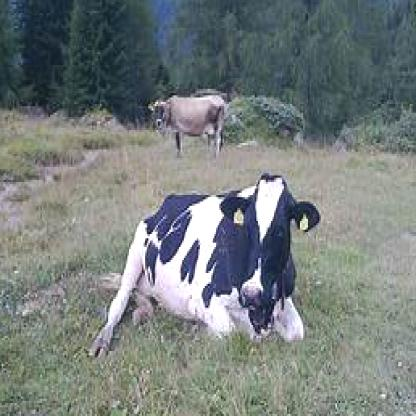cow: (89, 174, 321, 358)
dog: (148, 95, 228, 154)
